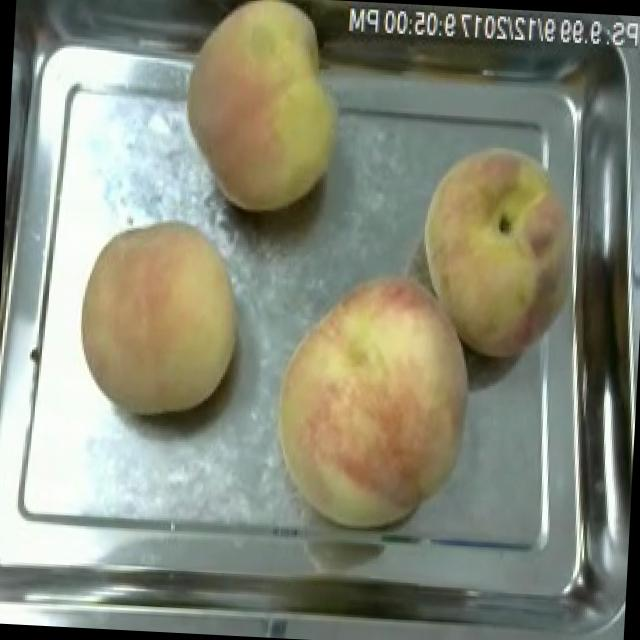Fruit: (259, 260, 483, 542), (171, 0, 359, 227), (408, 134, 588, 368), (65, 210, 254, 428)
